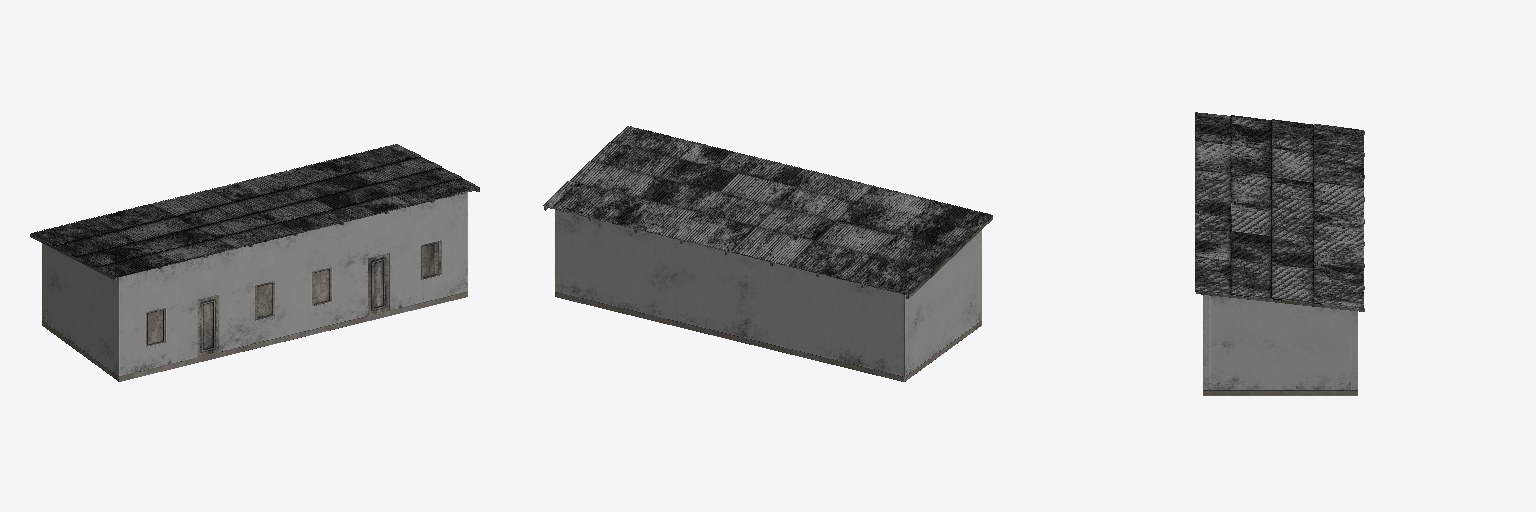
3 views of the same model, side by side, from view 1: azimuth 30°, elevation 25°; view 2: azimuth 150°, elevation 25°; view 3: azimuth 270°, elevation 25° (orthographic).
Visible parts, largest first — view 1: obj1, obj15, obj3, obj14, obj13, obj12, obj5, obj27, obj20; view 2: obj2, obj15, obj14, obj13, obj12, obj3, obj5; view 3: obj4, obj15, obj14, obj13, obj12, obj5, obj1, obj2.
Part boxes in pixels (bbox=[...]): obj1: bbox=[116, 192, 467, 376]; obj15: bbox=[31, 144, 420, 244]; obj3: bbox=[45, 245, 115, 373]; obj14: bbox=[53, 157, 441, 255]; obj13: bbox=[72, 168, 461, 266]; obj12: bbox=[90, 178, 479, 276]; obj5: bbox=[42, 292, 467, 381]; obj27: bbox=[368, 253, 388, 315]; obj20: bbox=[198, 295, 218, 356]; obj2: bbox=[555, 210, 907, 376]; obj15: bbox=[543, 181, 933, 294]; obj14: bbox=[570, 161, 954, 270]; obj13: bbox=[591, 142, 974, 250]; obj12: bbox=[611, 126, 992, 238]; obj3: bbox=[908, 234, 977, 373]; obj5: bbox=[555, 292, 981, 381]; obj4: bbox=[1210, 296, 1350, 389]; obj15: bbox=[1314, 124, 1363, 308]; obj14: bbox=[1272, 119, 1321, 304]; obj13: bbox=[1231, 115, 1281, 300]; obj12: bbox=[1195, 112, 1242, 295]; obj5: bbox=[1203, 390, 1357, 395]; obj1: bbox=[1203, 295, 1209, 389]; obj2: bbox=[1351, 311, 1357, 389].
Size of the model in its own units: 13.32 by 3.83 by 5.37.
2 materials, 2 textured.